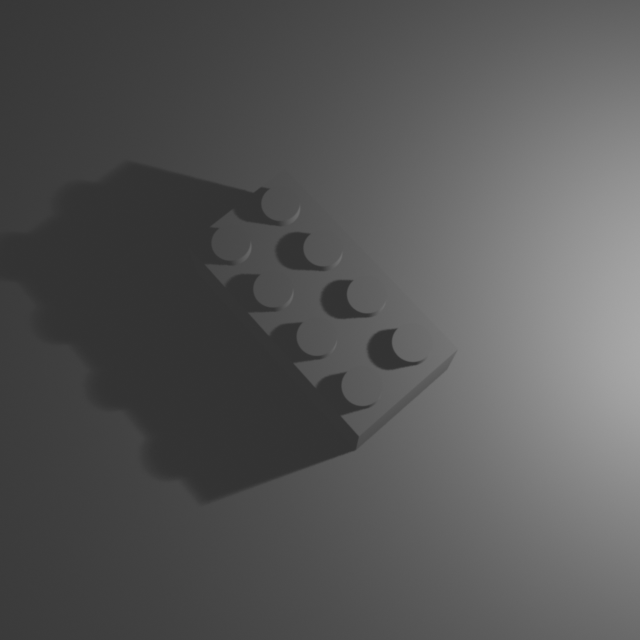lego_2x4: (185, 163, 460, 450)
